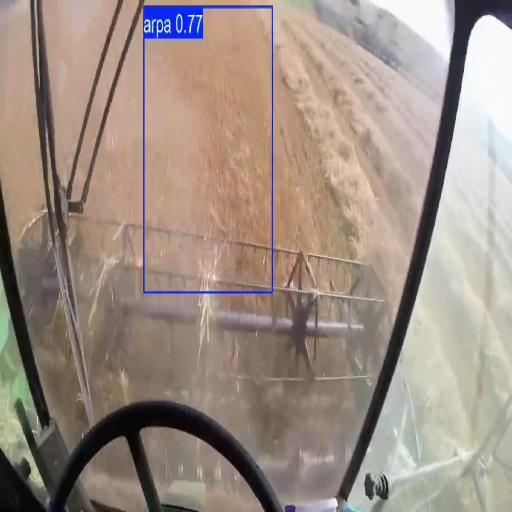arpa: (0, 0, 447, 503)
